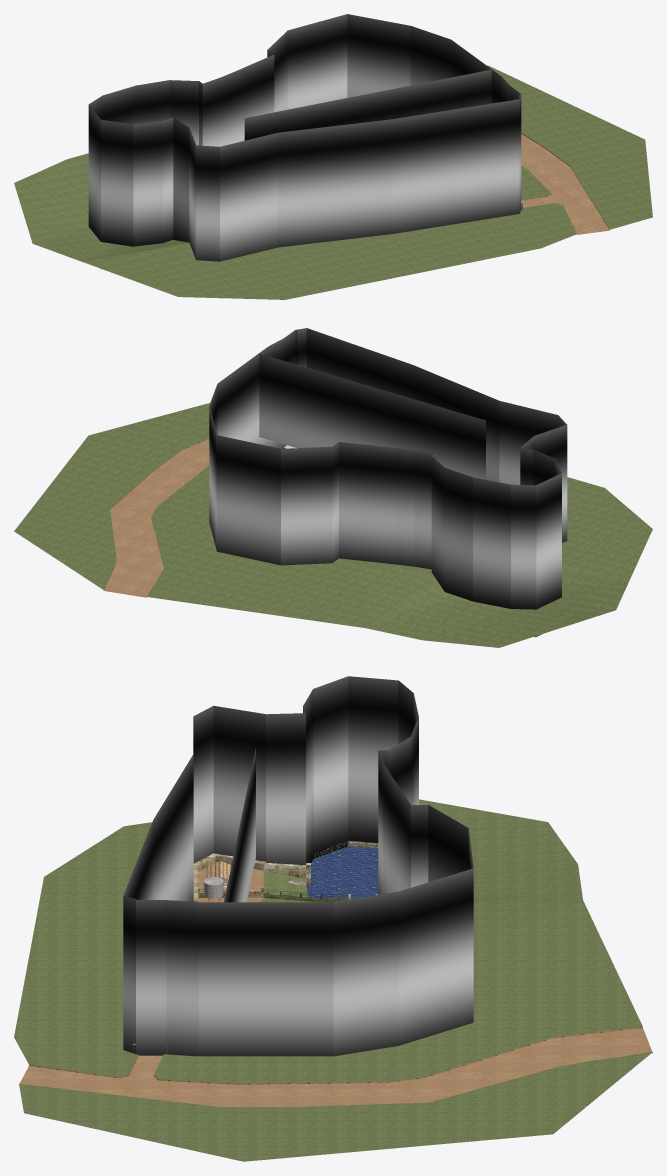
Rendered from MAP01.FBX.
The picture shows the model from 3 angles, top to bottom: view 1: azimuth 30°, elevation 25°; view 2: azimuth 150°, elevation 25°; view 3: azimuth 270°, elevation 25°; orthographic projection. The views are drawn at different scales.
Parts seen in each view (by area): view 1: MAP01_B, MAP01, MAP01_BC; view 2: MAP01_B, MAP01, MAP01_BC; view 3: MAP01, MAP01_B, MAP01_BC, MAP01_W.
Part boxes in pixels (<box>): MAP01_B: <box>88,14,522,269</box>; MAP01: <box>14,65,652,299</box>; MAP01_BC: <box>89,14,520,146</box>; MAP01_B: <box>209,328,567,637</box>; MAP01: <box>14,403,652,647</box>; MAP01_BC: <box>209,328,566,485</box>; MAP01: <box>14,799,652,1161</box>; MAP01_B: <box>123,676,473,1056</box>; MAP01_BC: <box>124,676,473,902</box>; MAP01_W: <box>306,846,378,899</box>.
Size of the model in its own units: 5632 by 1420 by 4096.
